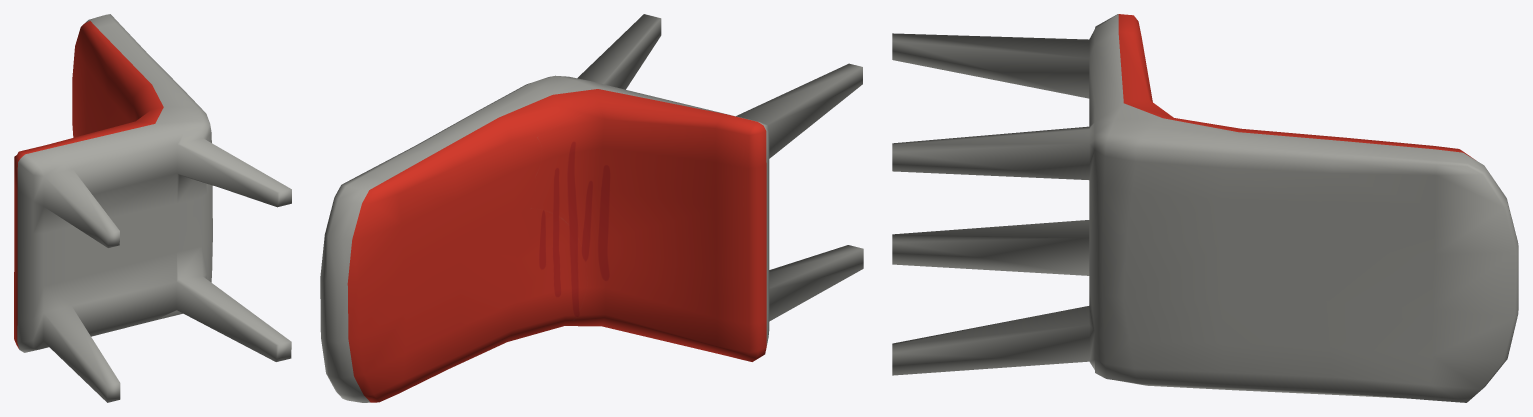
Rendered from chair.fbx.
The picture shows the model from 3 angles, left to right: view 1: azimuth 30°, elevation 25°; view 2: azimuth 150°, elevation 25°; view 3: azimuth 270°, elevation 25°; orthographic projection. The views are drawn at different scales.
Parts seen in each view (by area): view 1: Circle.002; view 2: Circle.002; view 3: Circle.002.
Part boxes in pixels (x1,y1,x2,y2): Circle.002: (14, 14, 291, 402); Circle.002: (320, 14, 863, 402); Circle.002: (892, 14, 1518, 402).
Size of the model in its own units: 164 by 75.57 by 89.68.
